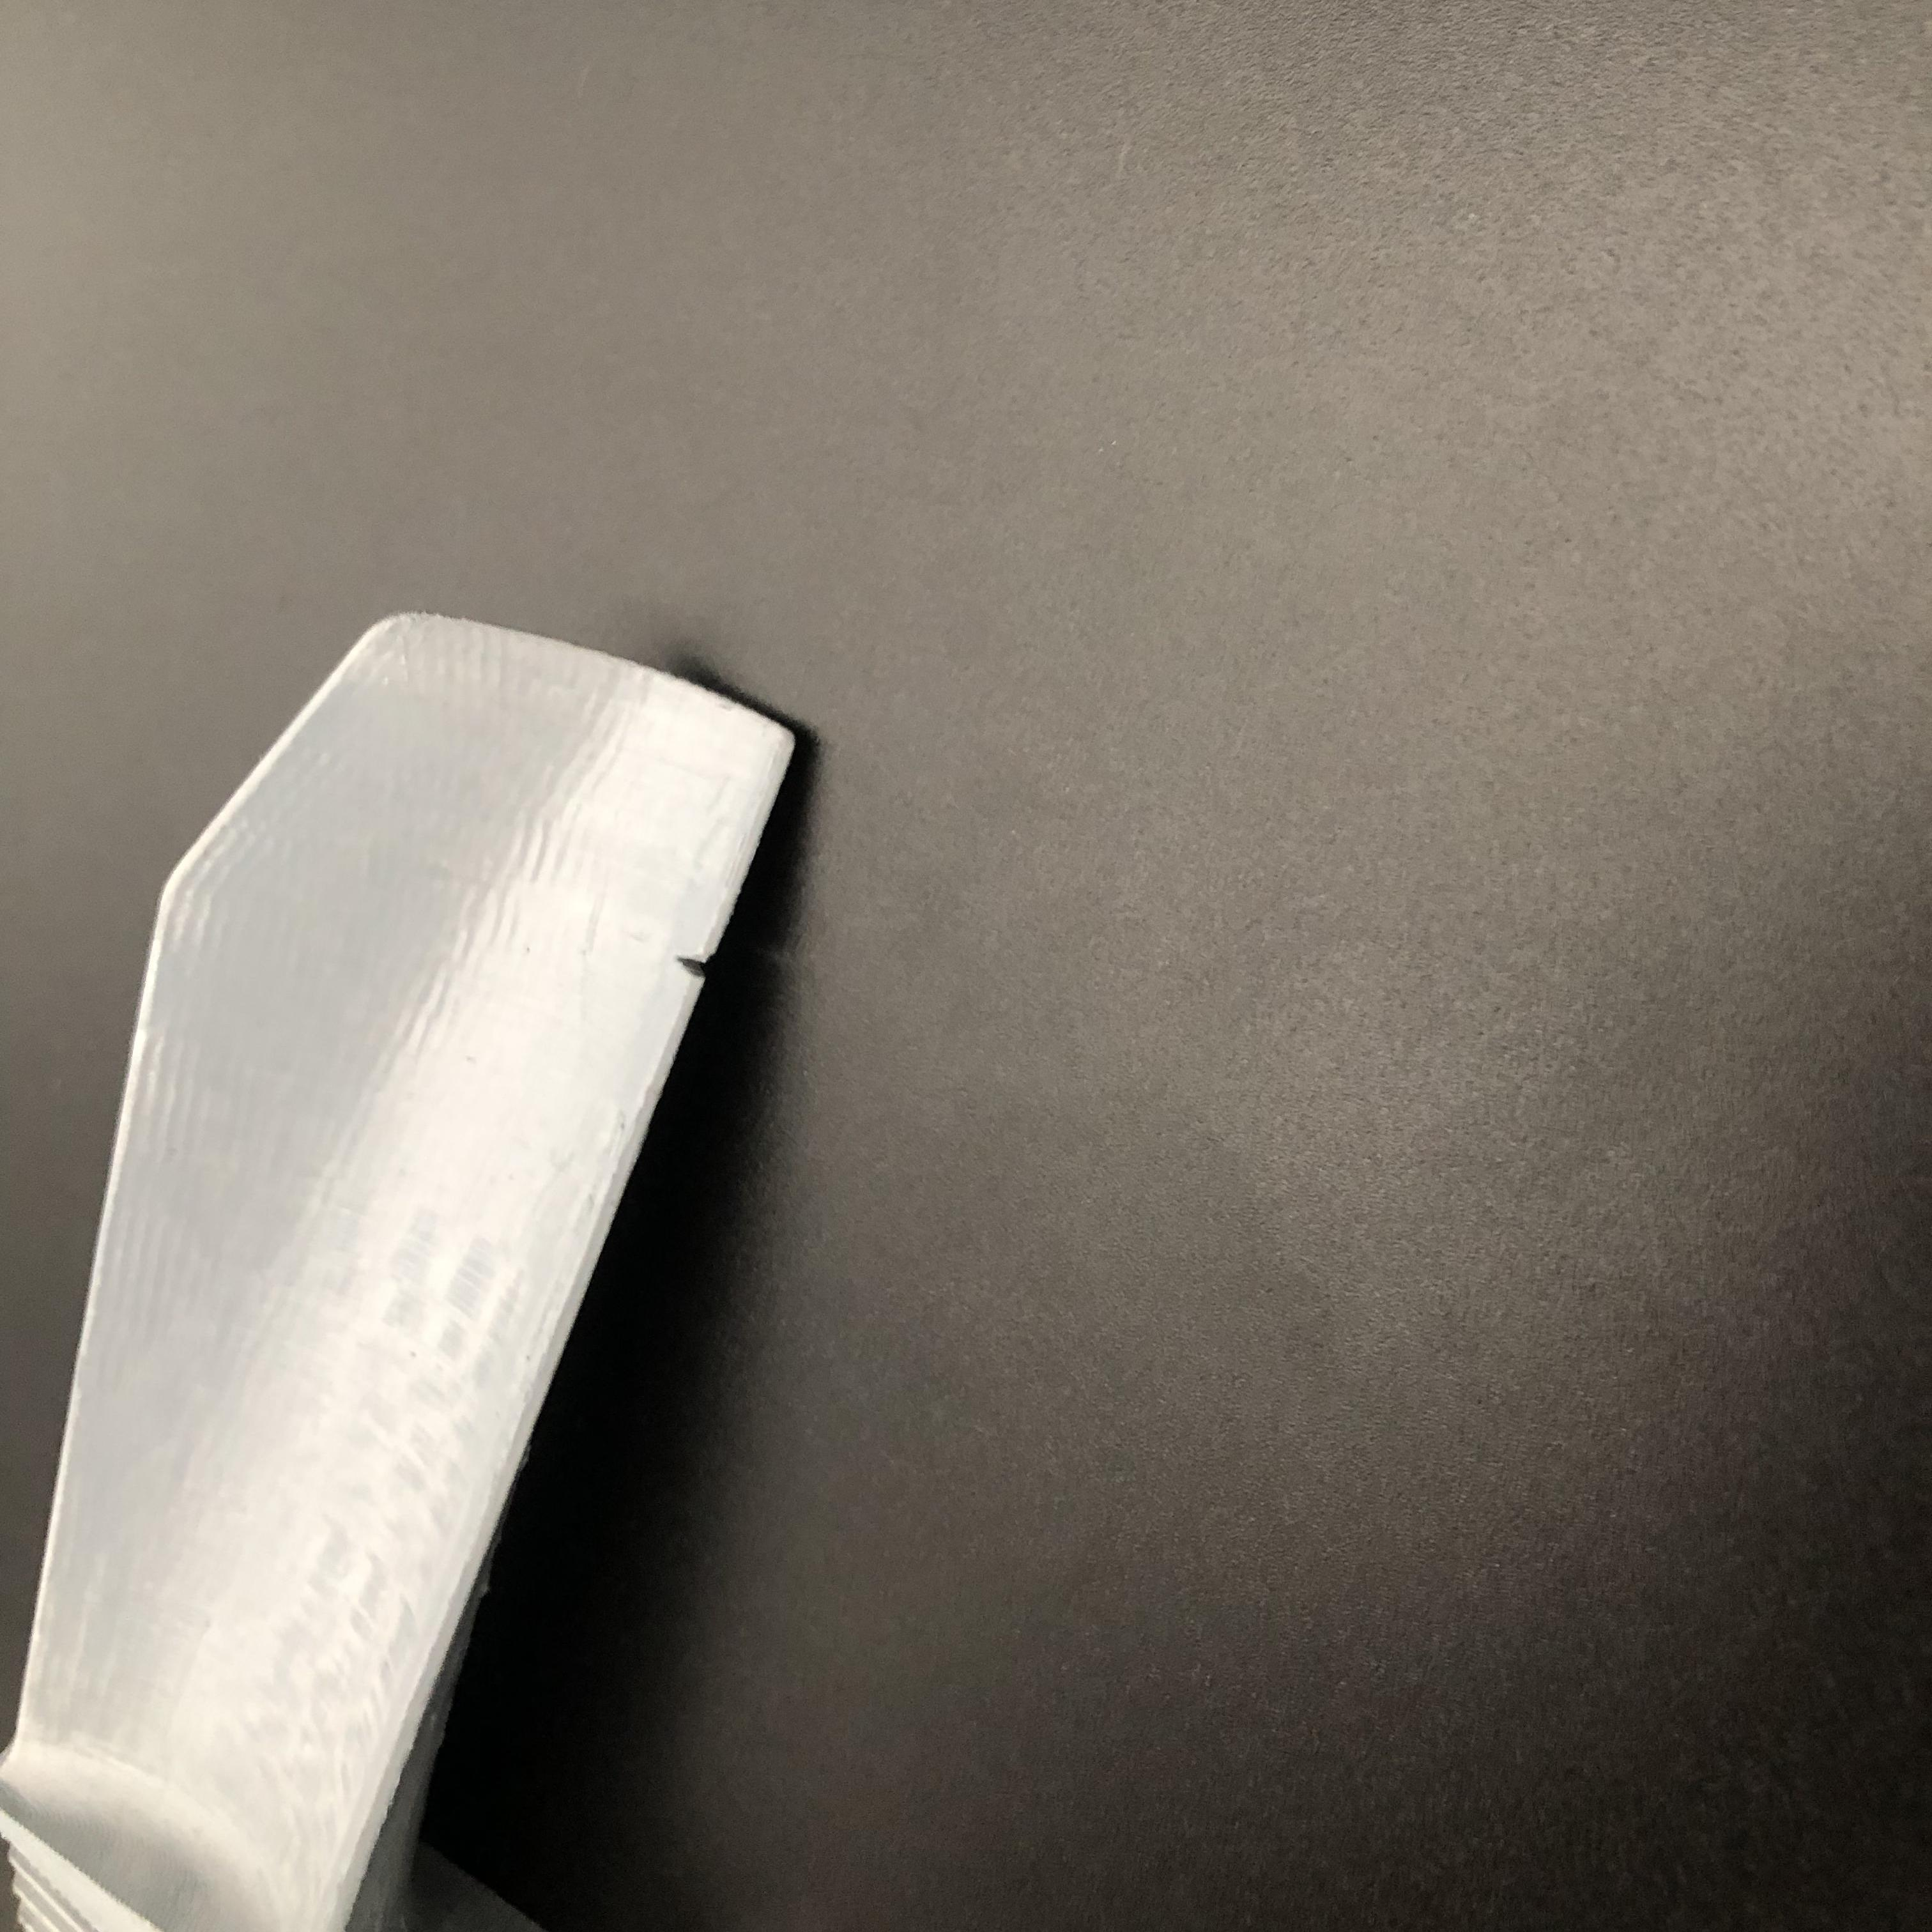groove: (674, 945, 708, 982)
